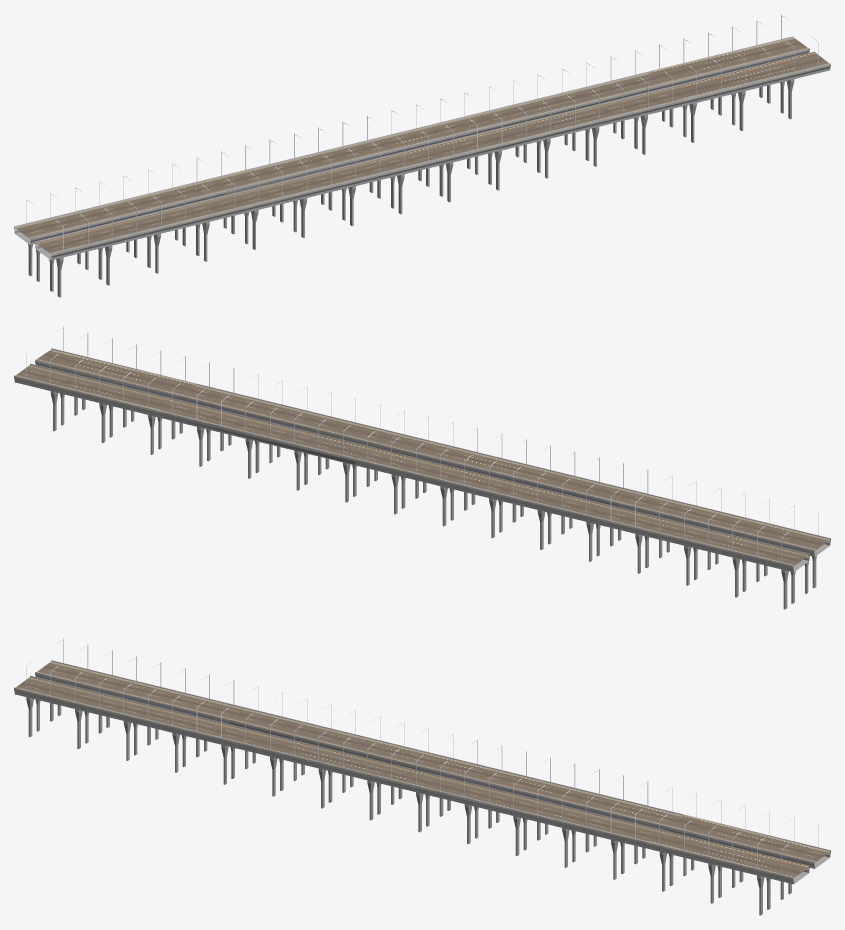
Rendered from SM_Highway.fbx.
3 views of the same model, one above another, from view 1: azimuth 30°, elevation 25°; view 2: azimuth 150°, elevation 25°; view 3: azimuth 330°, elevation 25° (orthographic).
Visible parts, largest first — view 1: Highway.002, Highway.001, Highway.003, LOD1_Highway.004, LOD1_Highway.007, Highway, LOD1_Highway.005, LOD1_Highway.006; view 2: Highway.002, Highway.001, Highway.003, LOD1_Highway.006, LOD1_Highway.005, Highway, LOD1_Highway.004, LOD1_Highway.007; view 3: Highway.001, Highway.002, Highway.003, LOD1_Highway.006, LOD1_Highway.005, LOD1_Highway.007, LOD1_Highway.004, Highway.
Boxes of the visible parts, <box> form: Highway.002: <box>209,98,489,249</box>; Highway.001: <box>14,157,246,297</box>; Highway.003: <box>452,50,684,190</box>; LOD1_Highway.004: <box>648,17,829,137</box>; LOD1_Highway.007: <box>454,52,684,189</box>; Highway: <box>647,14,830,142</box>; LOD1_Highway.005: <box>14,165,246,296</box>; LOD1_Highway.006: <box>210,99,489,246</box>; Highway.002: <box>355,410,635,561</box>; Highway.001: <box>598,469,830,609</box>; Highway.003: <box>160,362,392,502</box>; LOD1_Highway.006: <box>355,429,634,558</box>; LOD1_Highway.005: <box>598,471,830,606</box>; Highway: <box>14,326,197,454</box>; LOD1_Highway.004: <box>14,329,196,454</box>; LOD1_Highway.007: <box>160,364,389,497</box>; Highway.001: <box>14,638,245,772</box>; Highway.002: <box>208,686,489,832</box>; Highway.003: <box>452,745,683,879</box>; LOD1_Highway.006: <box>209,688,488,826</box>; LOD1_Highway.005: <box>14,640,244,766</box>; LOD1_Highway.007: <box>452,747,683,876</box>; LOD1_Highway.004: <box>647,813,830,909</box>; Highway: <box>647,793,830,915</box>.
Bounding box in the file's own units: 64 × 5.8 × 5.38.
